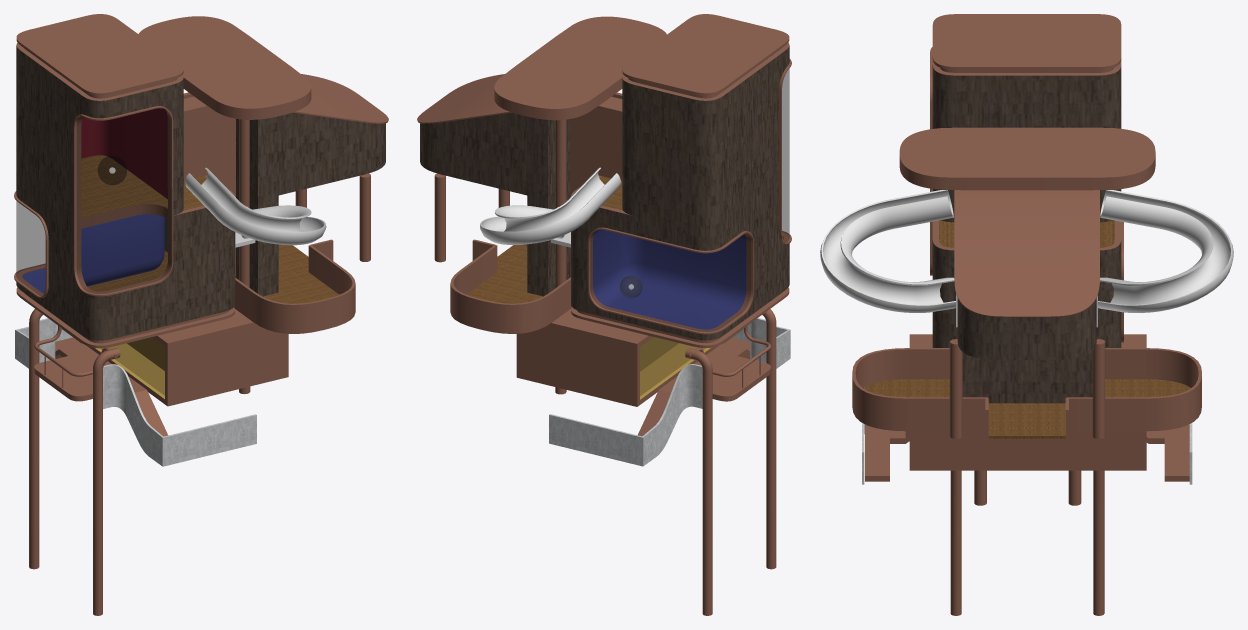
Rendered from Carabell.glb.
3 views of the same model, side by side, from view 1: azimuth 30°, elevation 25°; view 2: azimuth 150°, elevation 25°; view 3: azimuth 270°, elevation 25° (orthographic). The views are drawn at different scales.
Parts seen in each view (by area): view 1: Box032, CARA, Group018, Box033, Box040, Box034, Shape018, Box039, Helix005, Helix002, Cylinder004, Group019 (+2 smaller); view 2: Box032, CARA, Group018, Box033, Box040, Box034, Shape018, Box039, Helix006, Helix002, Cylinder004, Group019 (+1 smaller); view 3: CARA, Box032, Box039, Box040, Group018, Box034, Helix005, Helix006, Group019, Cylinder004, Shape018.
Part boxes in pixels (x1=…): Box032: x1=16, y1=43, x2=235, y2=340; CARA: x1=14, y1=16, x2=388, y2=466; Group018: x1=16, y1=14, x2=234, y2=348; Box033: x1=16, y1=108, x2=170, y2=295; Box040: x1=235, y1=112, x2=385, y2=296; Box034: x1=61, y1=309, x2=288, y2=406; Shape018: x1=29, y1=309, x2=120, y2=615; Box039: x1=234, y1=239, x2=355, y2=333; Helix005: x1=185, y1=167, x2=326, y2=245; Helix002: x1=183, y1=92, x2=235, y2=276; Cylinder004: x1=239, y1=119, x2=370, y2=394; Group019: x1=263, y1=245, x2=338, y2=303; Box032: x1=571, y1=43, x2=789, y2=340; CARA: x1=417, y1=16, x2=791, y2=466; Group018: x1=571, y1=14, x2=789, y2=347; Box033: x1=590, y1=69, x2=789, y2=331; Box040: x1=420, y1=112, x2=570, y2=296; Box034: x1=516, y1=309, x2=743, y2=406; Shape018: x1=685, y1=309, x2=776, y2=615; Box039: x1=450, y1=239, x2=571, y2=333; Helix006: x1=480, y1=167, x2=621, y2=244; Helix002: x1=570, y1=92, x2=622, y2=276; Cylinder004: x1=434, y1=119, x2=566, y2=394; Group019: x1=467, y1=244, x2=542, y2=303; CARA: x1=862, y1=47, x2=1192, y2=484; Box032: x1=932, y1=59, x2=1121, y2=347; Box039: x1=852, y1=348, x2=1201, y2=442; Box040: x1=957, y1=298, x2=1096, y2=403; Group018: x1=932, y1=14, x2=1121, y2=247; Box034: x1=909, y1=334, x2=1146, y2=470; Helix005: x1=820, y1=190, x2=955, y2=312; Helix006: x1=1098, y1=190, x2=1233, y2=312; Group019: x1=863, y1=379, x2=1190, y2=438; Cylinder004: x1=949, y1=339, x2=1105, y2=505; Shape018: x1=950, y1=470, x2=1104, y2=615.
Bounding box in the file's own units: 14.71 × 23.18 × 14.69.
Materials: 16 (3 with a texture image).
